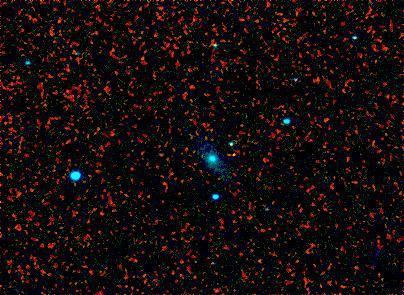star: (215, 133, 245, 163)
